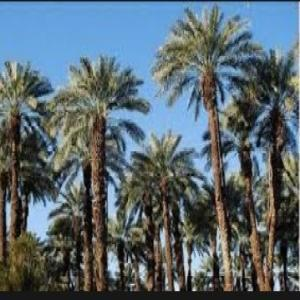palm tree: (149, 3, 260, 290), (48, 52, 150, 290), (127, 129, 205, 290)
